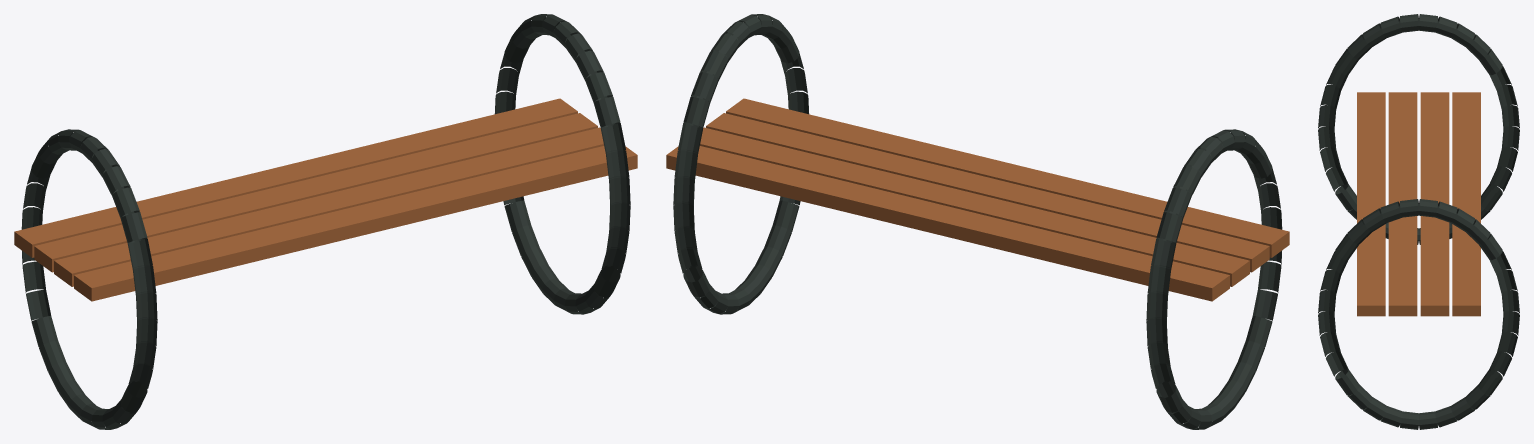
3 renders of one model, left to right at view 1: azimuth 30°, elevation 25°; view 2: azimuth 150°, elevation 25°; view 3: azimuth 270°, elevation 25°, orthographic. The views are drawn at different scales.
Parts seen in each view (by area): view 1: SW-L508; view 2: SW-L508; view 3: SW-L508.
Part boxes in pixels (x1=…): SW-L508: x1=14, y1=14, x2=637, y2=429; SW-L508: x1=666, y1=14, x2=1289, y2=429; SW-L508: x1=1318, y1=14, x2=1519, y2=429.
Size of the model in its own units: 1.5 by 0.75 by 0.6.
